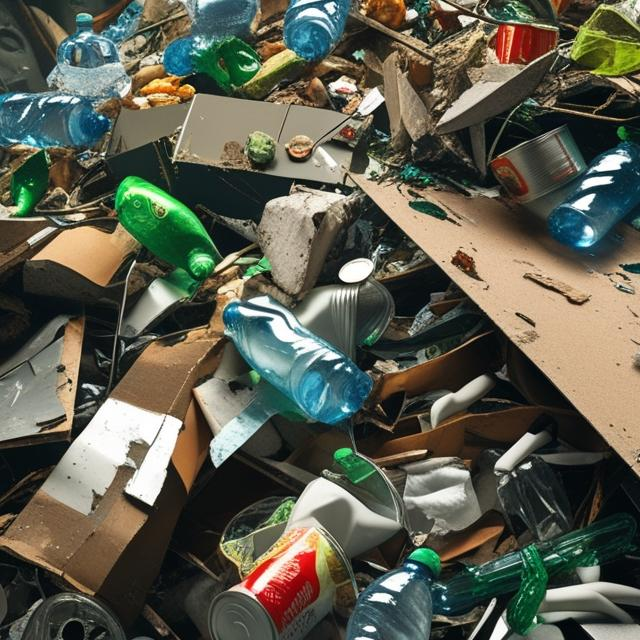metal: (200, 528, 349, 640)
